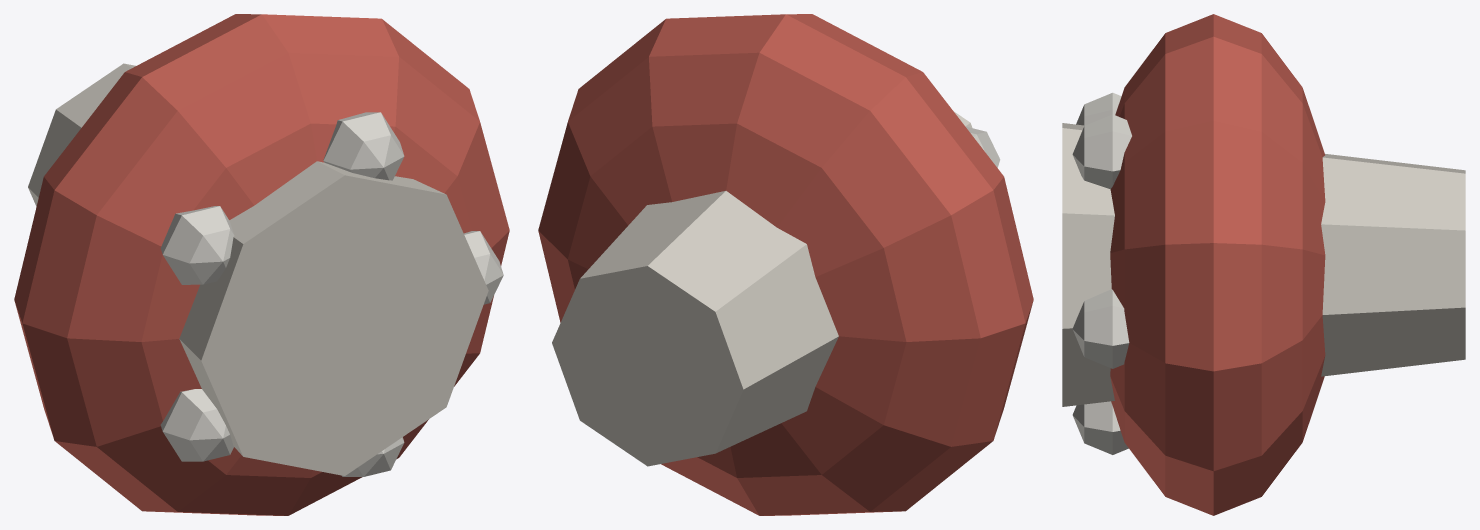
File: mushroom.glb
3 views of the same model, side by side, from view 1: azimuth 30°, elevation 25°; view 2: azimuth 150°, elevation 25°; view 3: azimuth 270°, elevation 25° (orthographic). The views are drawn at different scales.
Visible parts, largest first — view 1: geometry_0; view 2: geometry_0; view 3: geometry_0.
Boxes of the visible parts, x1=… form: geometry_0: x1=14, y1=14, x2=509, y2=515; geometry_0: x1=538, y1=14, x2=1033, y2=515; geometry_0: x1=1062, y1=14, x2=1465, y2=515.
Size of the model in its own units: 0.1 by 0.1 by 0.08.
